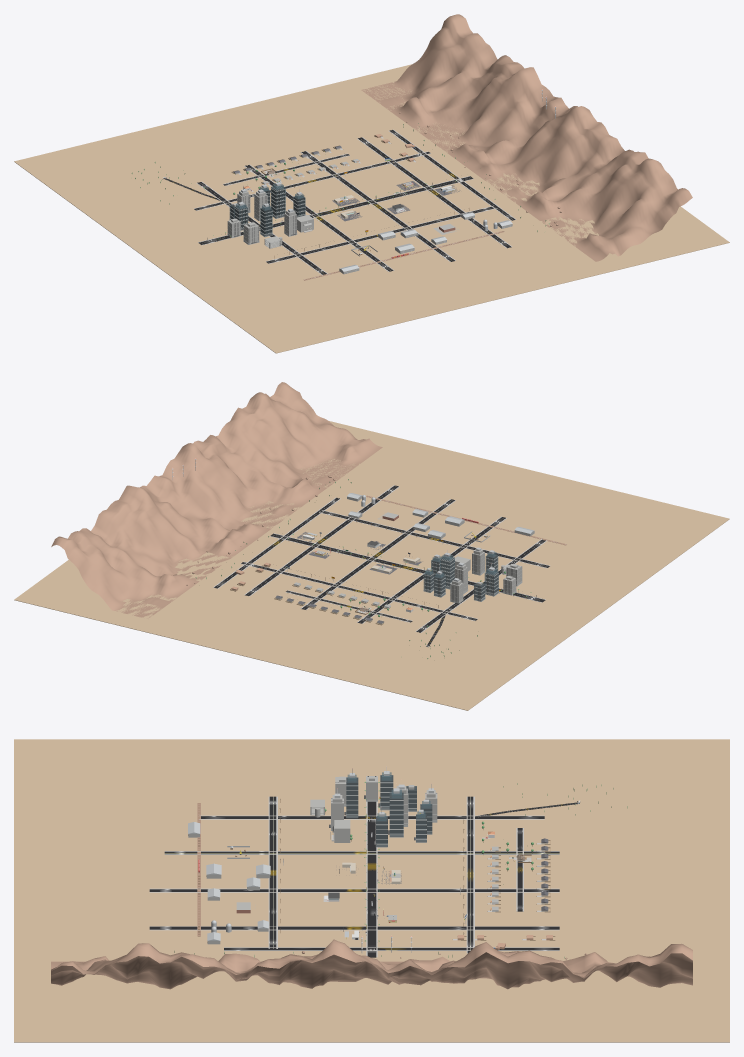
Rendered from breaking_bad_albuquerque_master.glb.
3 views of the same model, one above another, from view 1: azimuth 30°, elevation 25°; view 2: azimuth 150°, elevation 25°; view 3: azimuth 270°, elevation 25° (orthographic). The views are drawn at different scales.
Parts seen in each view (by area): view 1: Desert_Base_Plateau, Sandia_Mountain_Range, Route_66_Central_Ave_asphalt, San_Mateo_Blvd_asphalt, Broadway_Blvd_asphalt, South_Valley_Way_asphalt, 4th_Street_asphalt; view 2: Desert_Base_Plateau, Sandia_Mountain_Range, Route_66_Central_Ave_asphalt, Broadway_Blvd_asphalt, San_Mateo_Blvd_asphalt, South_Valley_Way_asphalt, Candelaria_Rd_N_asphalt, 4th_Street_asphalt; view 3: Desert_Base_Plateau, Sandia_Mountain_Range, San_Mateo_Blvd_asphalt, Route_66_Central_Ave_asphalt, 4th_Street_asphalt, Broadway_Blvd_asphalt, South_Valley_Way_asphalt, Candelaria_Rd_N_asphalt, Foothills_Parkway_asphalt, Downtown_Ave_W_asphalt, San_Mateo_Blvd_sw_r, Broadway_Blvd_sw_l (+3 smaller).
Boxes of the visible parts, x1,y1,x2,y2 form: Desert_Base_Plateau: [14, 64, 729, 353]; Sandia_Mountain_Range: [361, 14, 692, 261]; Route_66_Central_Ave_asphalt: [198, 176, 473, 244]; San_Mateo_Blvd_asphalt: [358, 137, 511, 248]; Broadway_Blvd_asphalt: [301, 151, 454, 261]; South_Valley_Way_asphalt: [266, 206, 496, 263]; 4th_Street_asphalt: [245, 165, 393, 271]; Desert_Base_Plateau: [14, 421, 729, 710]; Sandia_Mountain_Range: [51, 382, 382, 618]; Route_66_Central_Ave_asphalt: [270, 533, 545, 602]; Broadway_Blvd_asphalt: [301, 499, 454, 609]; San_Mateo_Blvd_asphalt: [245, 485, 398, 595]; South_Valley_Way_asphalt: [320, 510, 549, 567]; Candelaria_Rd_N_asphalt: [241, 562, 477, 620]; 4th_Street_asphalt: [357, 517, 505, 623]; Desert_Base_Plateau: [14, 739, 729, 1042]; Sandia_Mountain_Range: [51, 939, 692, 989]; San_Mateo_Blvd_asphalt: [149, 926, 559, 929]; Route_66_Central_Ave_asphalt: [367, 776, 376, 957]; 4th_Street_asphalt: [164, 851, 559, 854]; Broadway_Blvd_asphalt: [149, 889, 559, 891]; South_Valley_Way_asphalt: [269, 796, 276, 947]; Candelaria_Rd_N_asphalt: [467, 796, 473, 952]; Foothills_Parkway_asphalt: [224, 948, 559, 950]; Downtown_Ave_W_asphalt: [201, 816, 544, 818]; San_Mateo_Blvd_sw_r: [150, 929, 559, 930]; Broadway_Blvd_sw_l: [150, 888, 559, 889].
Size of what is drawn, in the model's own units: 1450 by 187 by 1450.
Materials: 108 (28 with a texture image).
